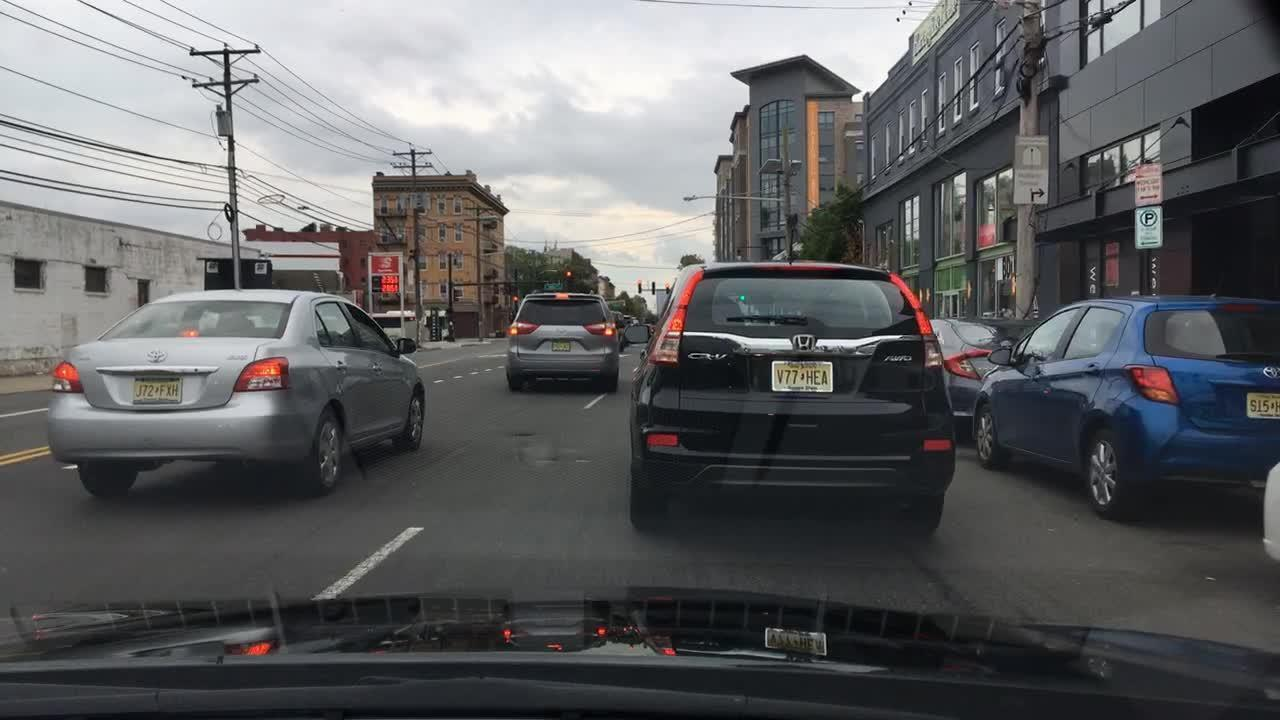Honda: (788, 325, 823, 360)
Toyota: (143, 346, 174, 368), (1257, 362, 1280, 385)
